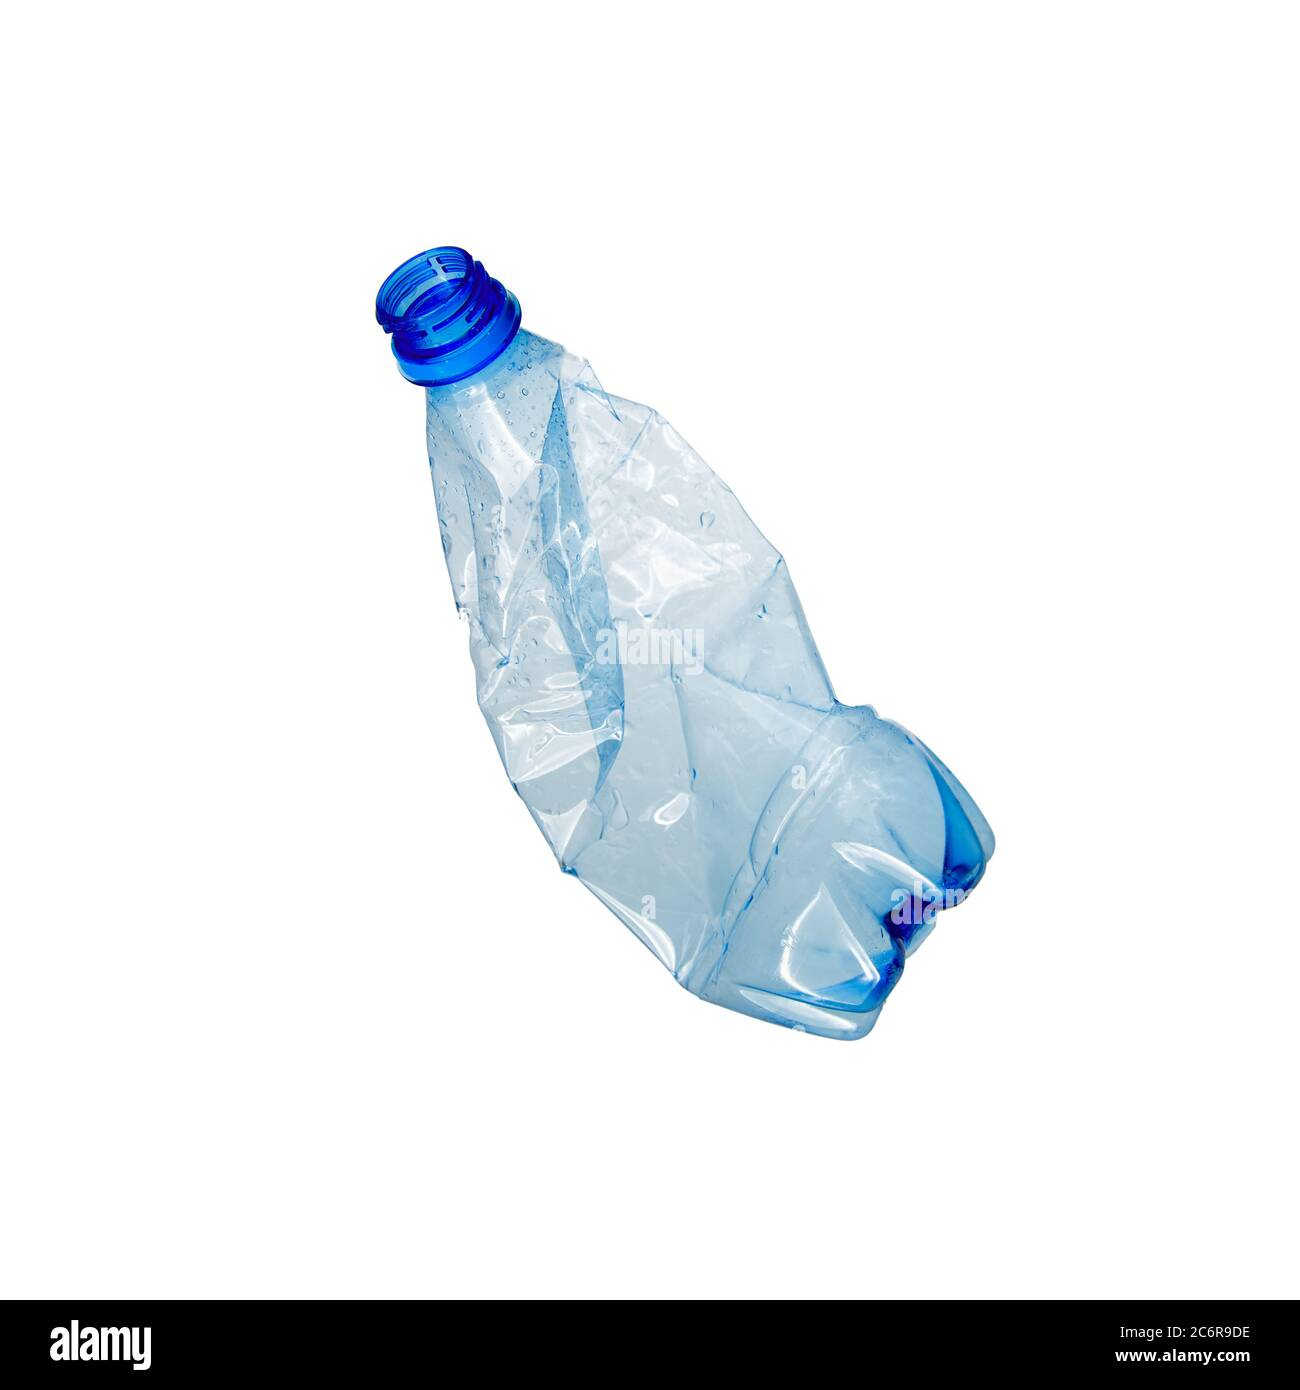plasticbottle: (360, 235, 1009, 1054)
